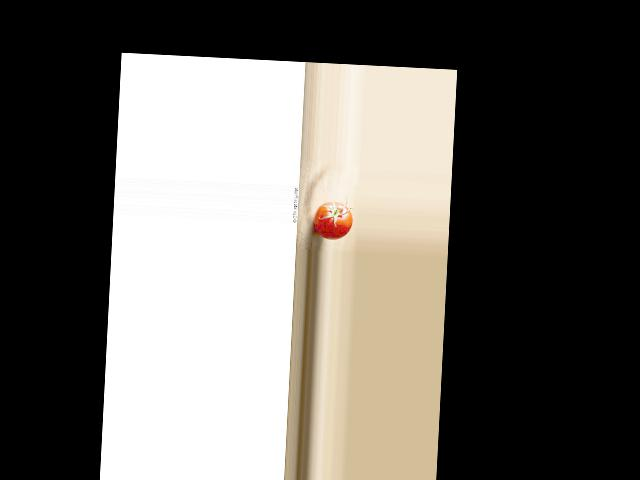tomato: (313, 200, 352, 240)
